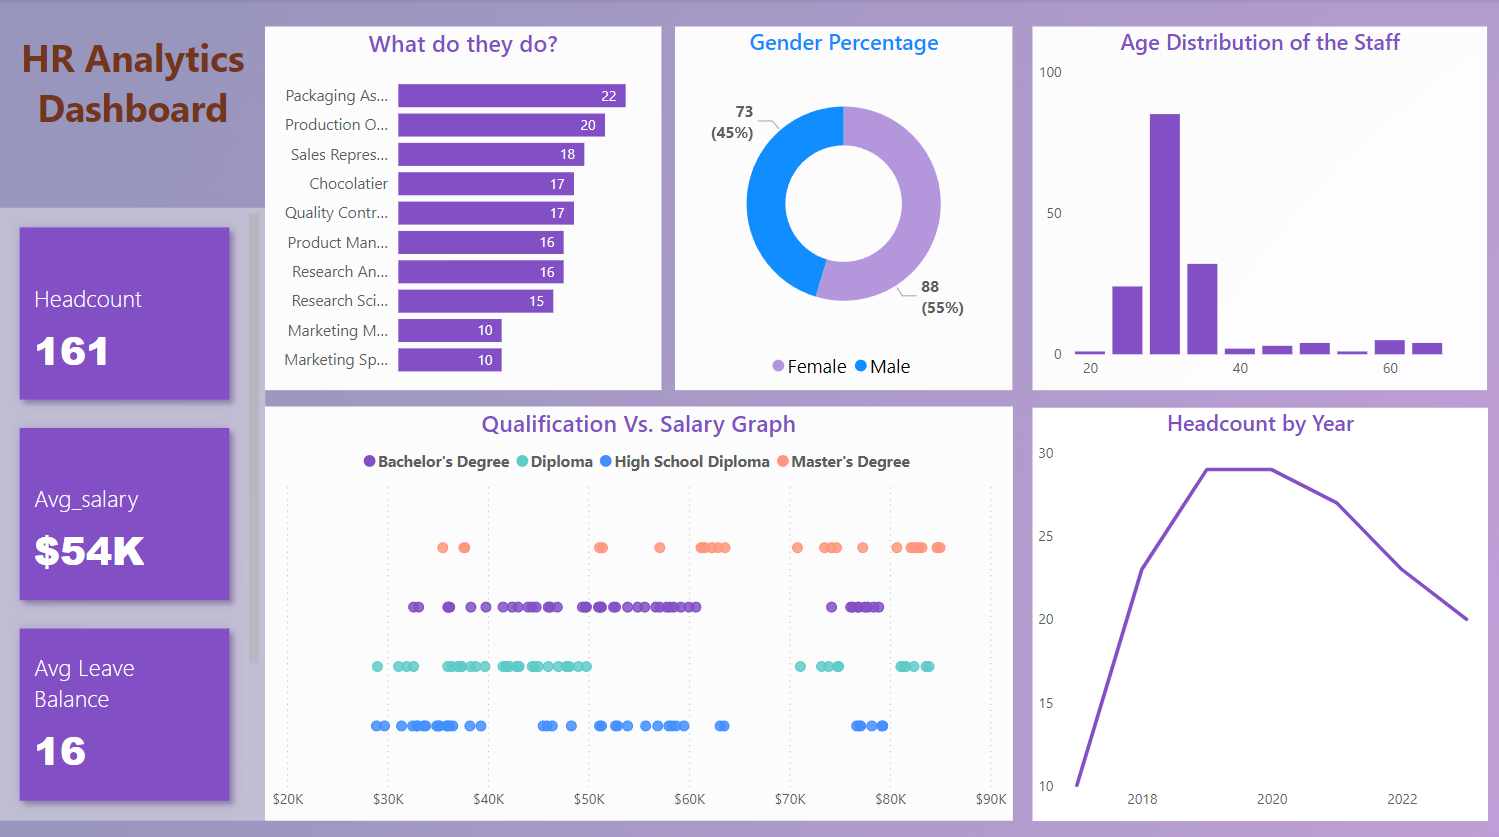

What the dashboard file says about the page in this screenshot:
{"tool":"powerbi","page":{"name":"Dashboard","canvas":[1280,720],"ordinal":9},"visuals":[{"type":"cardVisual","fields":{"Data":["data.headcount","data.Avg_salary","data.Avg LBL","Edu Qual.LBL over 20 days"]},"box":[0,178.3,226.7,523.3],"z":0},{"type":"clusteredBarChart","title":"What do they do?","fields":{"Category":["data.Job Title"],"Y":["data.headcount"]},"box":[226.7,23.3,338.3,310],"z":1000},{"type":"donutChart","title":"Gender Breakdown","fields":{"Category":["data.Gender"],"Y":["data.headcount"]},"box":[576.7,23.3,288.3,310],"z":2000},{"type":"columnChart","title":"Age Distribution of our Staff","fields":{"Category":["data.Age (bins)"],"Y":["data.headcount"]},"box":[881.7,23.3,388.3,310],"z":3000},{"type":"scatterChart","title":"Qualification Vs. Salary ","fields":{"X":["data.Salary"],"Y":["Edu Qual.Qualification id"],"Series":["Edu Qual.Column1"]},"box":[226.7,348.3,638.3,353.3],"z":4000},{"type":"textbox","box":[0,78.9,211.1,105.6],"z":5000},{"type":"image","box":[18.9,0,172.2,141.1],"z":6000},{"type":"lineChart","title":"Headcount by Year","fields":{"Category":["data.Date of Join.Variation.Date Hierarchy.Year","data.Date of Join.Variation.Date Hierarchy.Quarter","data.Date of Join.Variation.Date Hierarchy.Month","data.Date of Join.Variation.Date Hierarchy.Day"],"Y":["data.headcount"]},"box":[881.3,348.5,388.8,352.8],"z":7000}]}

Visuals, with their boxes in screenshot pixels (x1, y1, x2, y2), scaled from the page's 1280x720 canvas onto the 1499x837 screenshot:
cardVisual - data.headcount x data.Avg_salary: <region>0, 207, 265, 816</region>
"What do they do?" clusteredBarChart: <region>265, 27, 662, 387</region>
"Gender Breakdown" donutChart: <region>675, 27, 1013, 387</region>
"Age Distribution of our Staff" columnChart: <region>1033, 27, 1487, 387</region>
"Qualification Vs. Salary " scatterChart: <region>265, 405, 1013, 816</region>
textbox: <region>0, 92, 247, 214</region>
image: <region>22, 0, 224, 164</region>
"Headcount by Year" lineChart: <region>1032, 405, 1487, 815</region>
